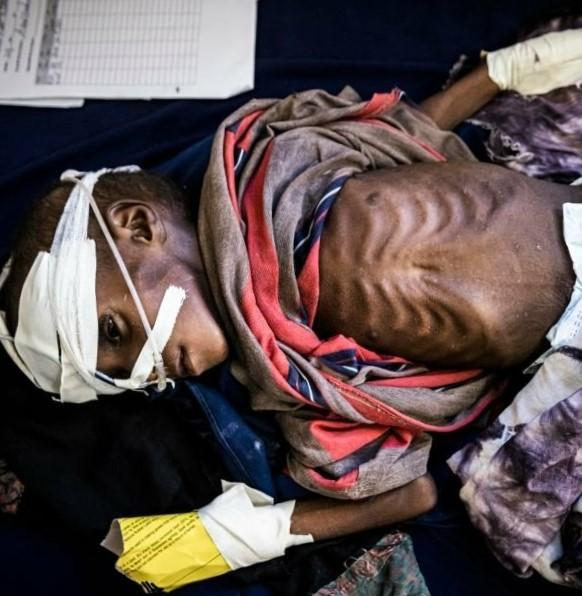Stunting: (0, 157, 258, 495)
